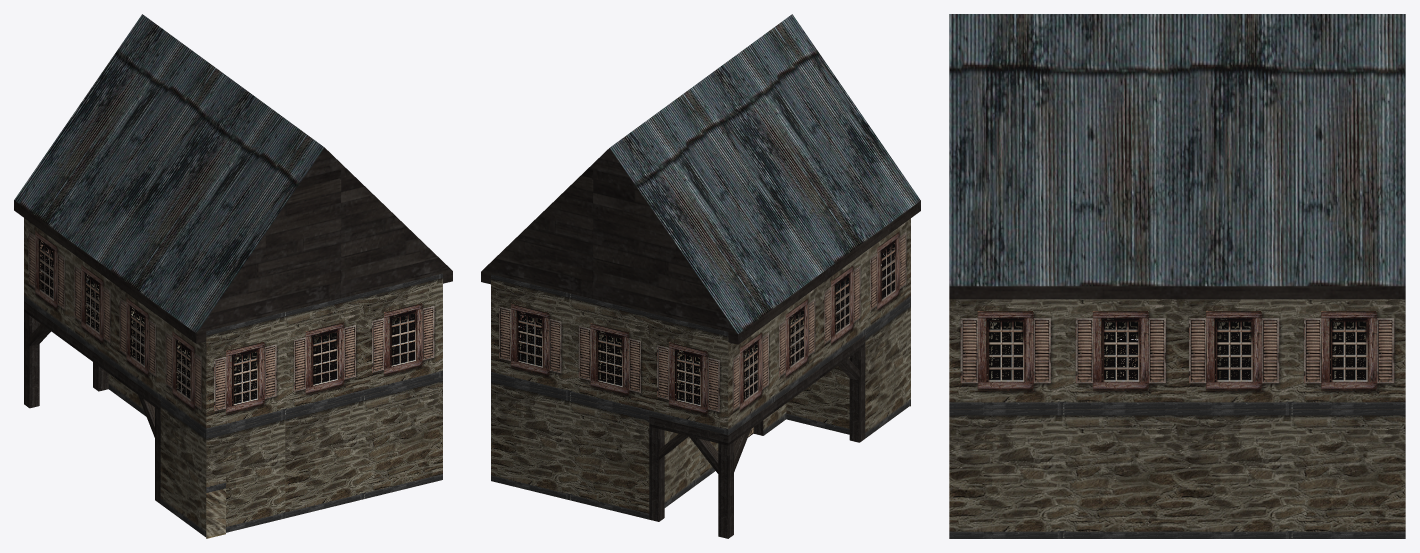
Rendered from Townhouse_01.dae.
3 renders of one model, left to right at view 1: azimuth 30°, elevation 25°; view 2: azimuth 150°, elevation 25°; view 3: azimuth 270°, elevation 25°, orthographic. The views are drawn at different scales.
Visible parts, largest first — view 1: BSP.010; view 2: BSP.010; view 3: BSP.010.
Part boxes in pixels (bbox=[...]): BSP.010: bbox=[14, 14, 452, 538]; BSP.010: bbox=[481, 14, 920, 538]; BSP.010: bbox=[949, 14, 1405, 538].
Bounding box in the file's own units: 7.8 × 9.6 × 10.54.
